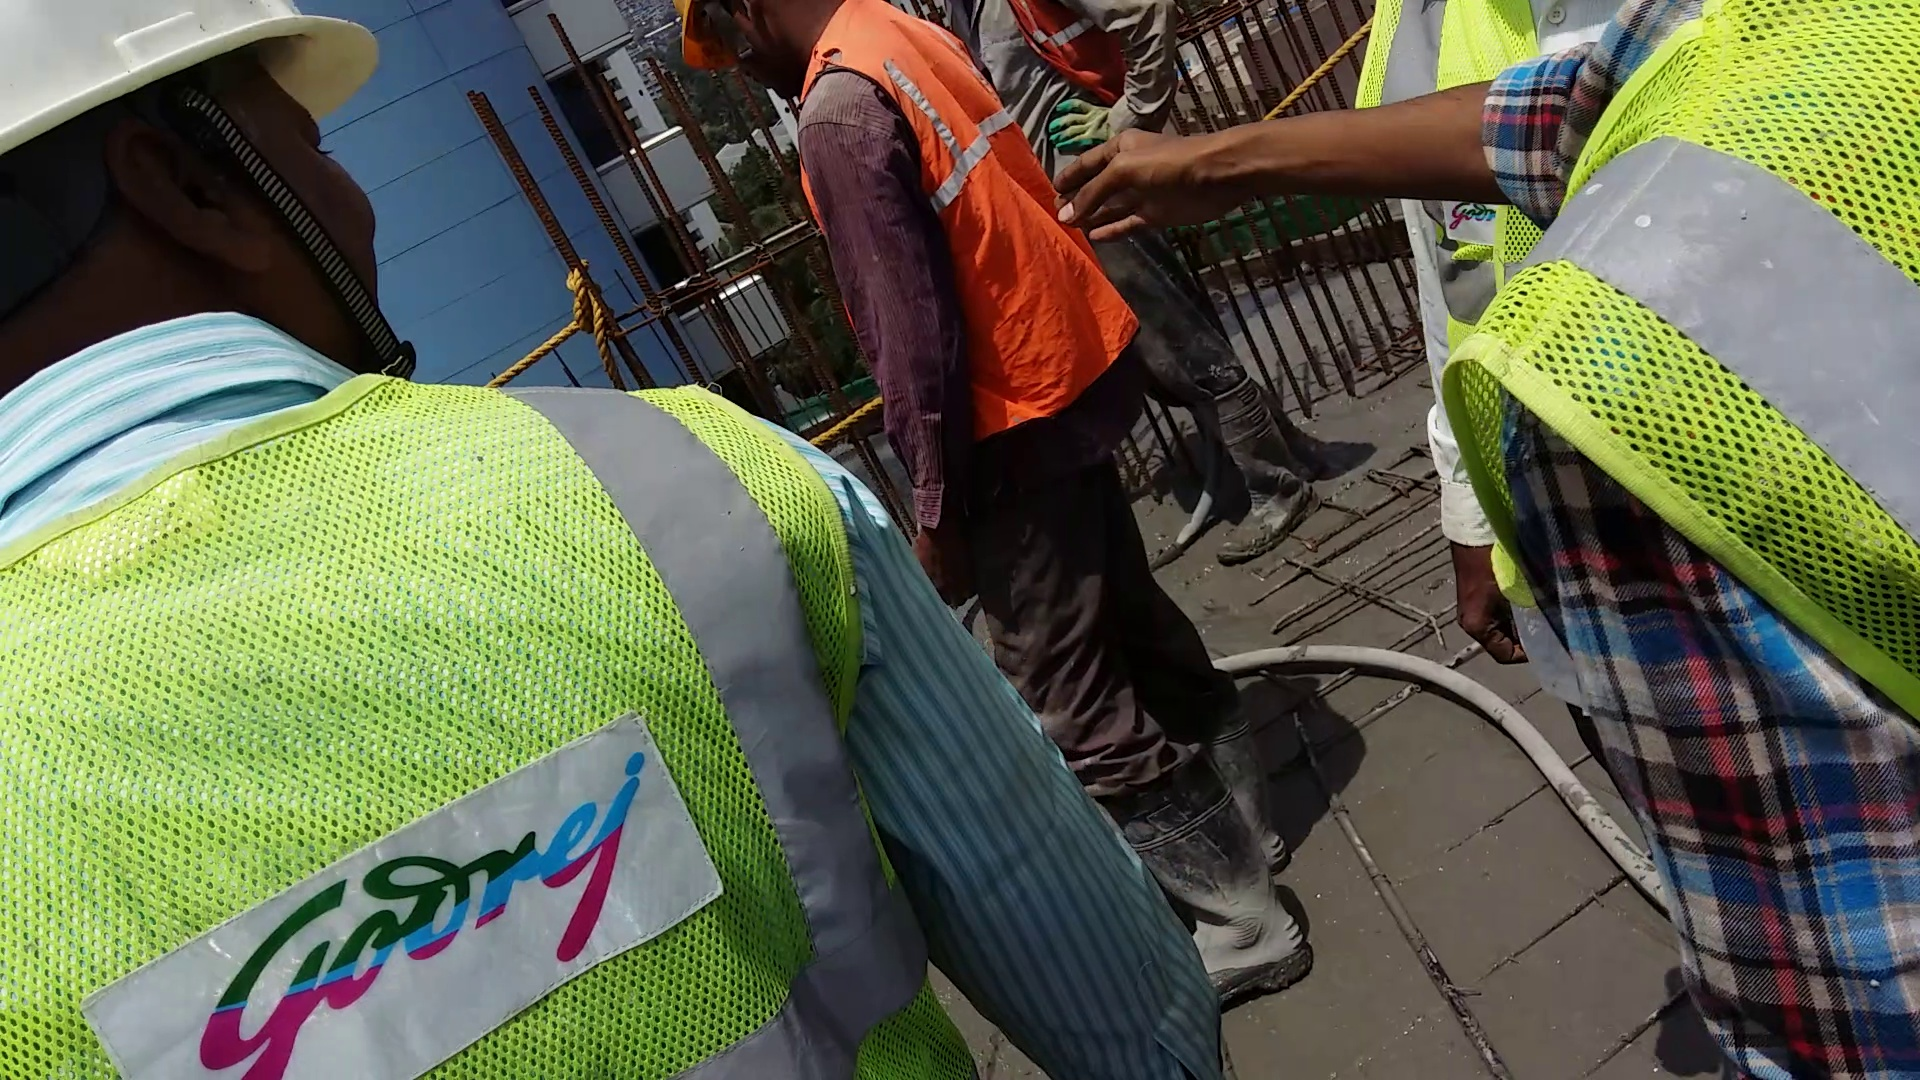SAFE: (7, 1, 684, 1080), (679, 5, 1135, 414)
